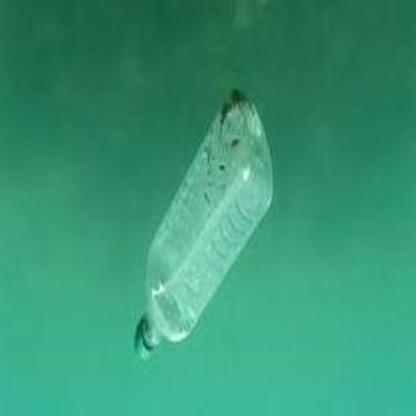plastic bottle: (135, 95, 275, 360)
